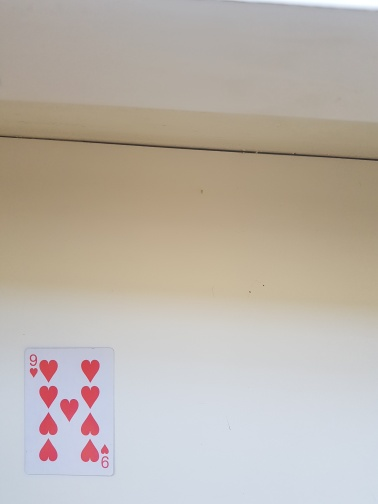nine: (22, 346, 115, 477)
